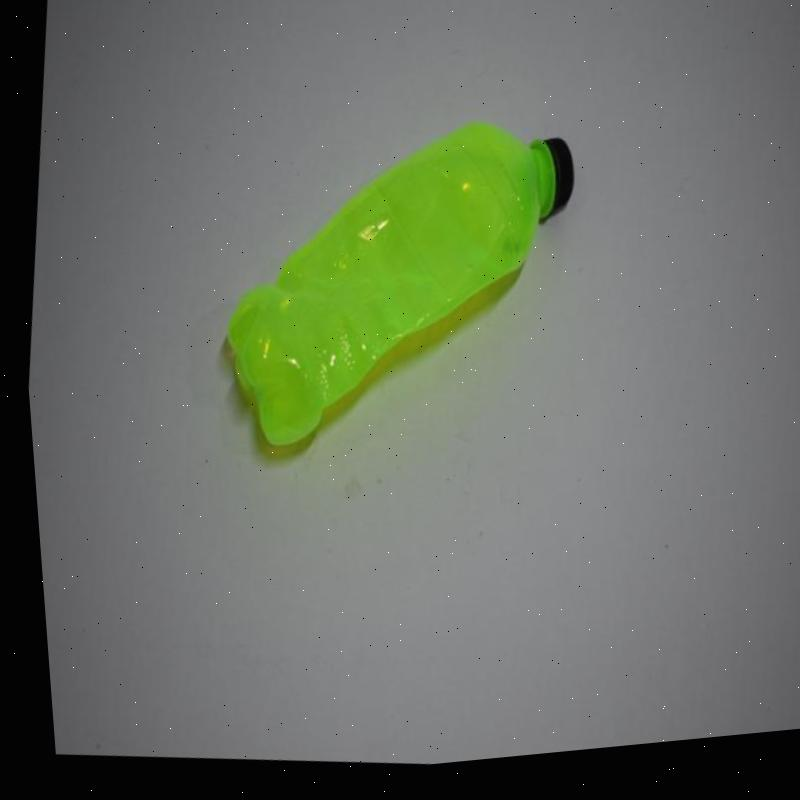botella: (193, 97, 592, 490)
